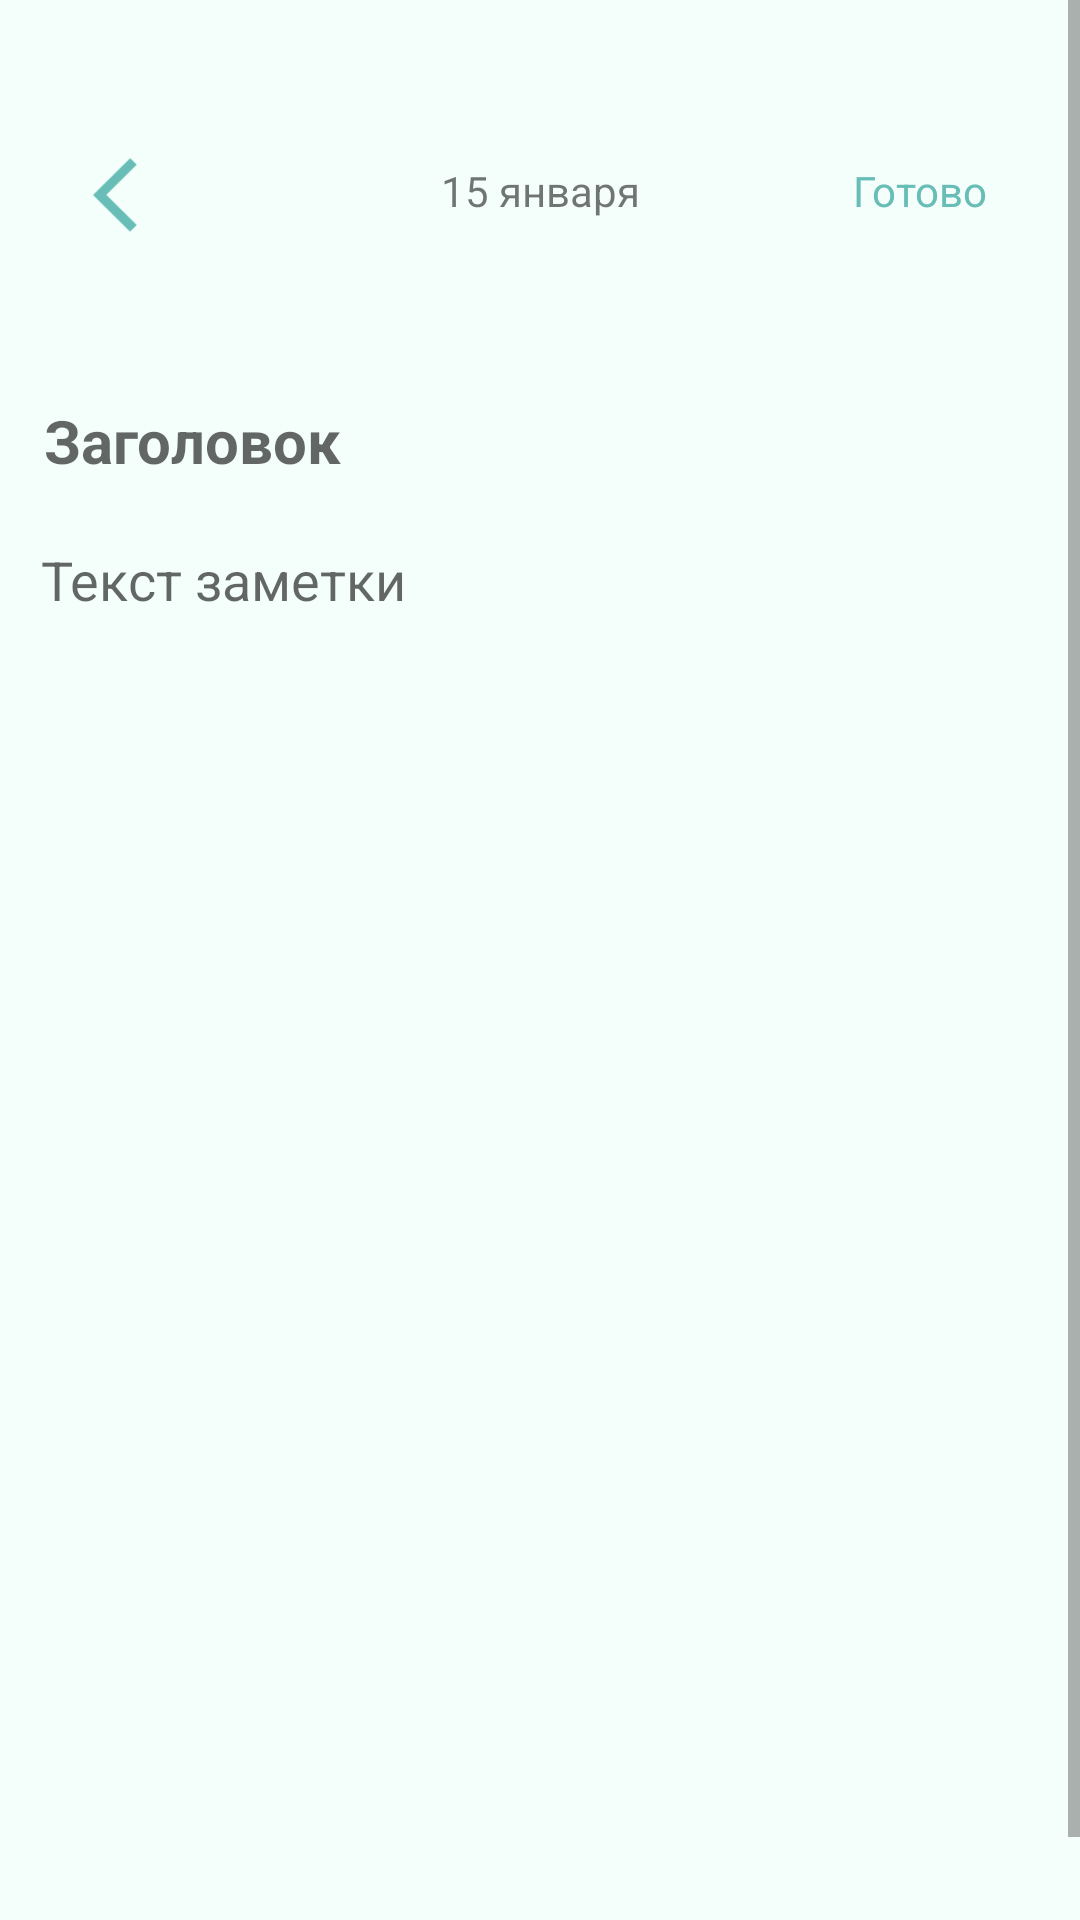

Where to tap for icons on this 1080×1920 app screen, as (x=x, y=y):
back arrow: (x=115, y=195)
